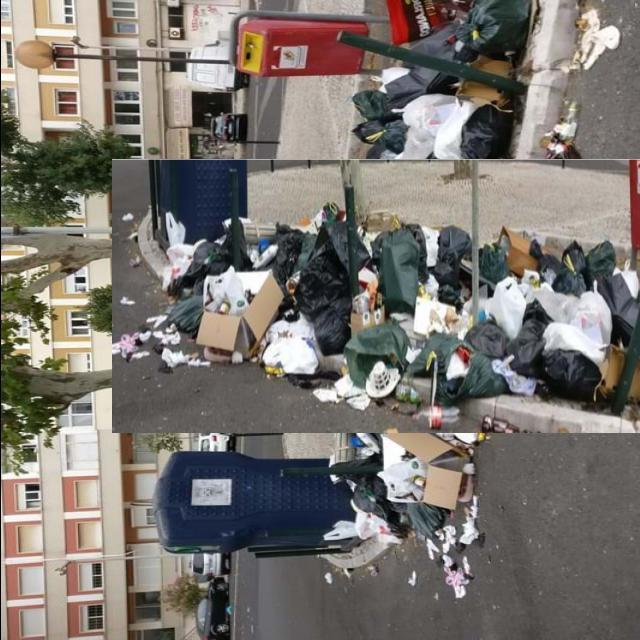Trashbag: (456, 6, 566, 65), (302, 252, 356, 352), (348, 83, 414, 149), (540, 348, 601, 399), (598, 271, 640, 345), (459, 109, 507, 165), (436, 228, 464, 302), (267, 230, 295, 286), (514, 328, 544, 374), (467, 324, 511, 354), (558, 252, 588, 288), (193, 245, 229, 270)
